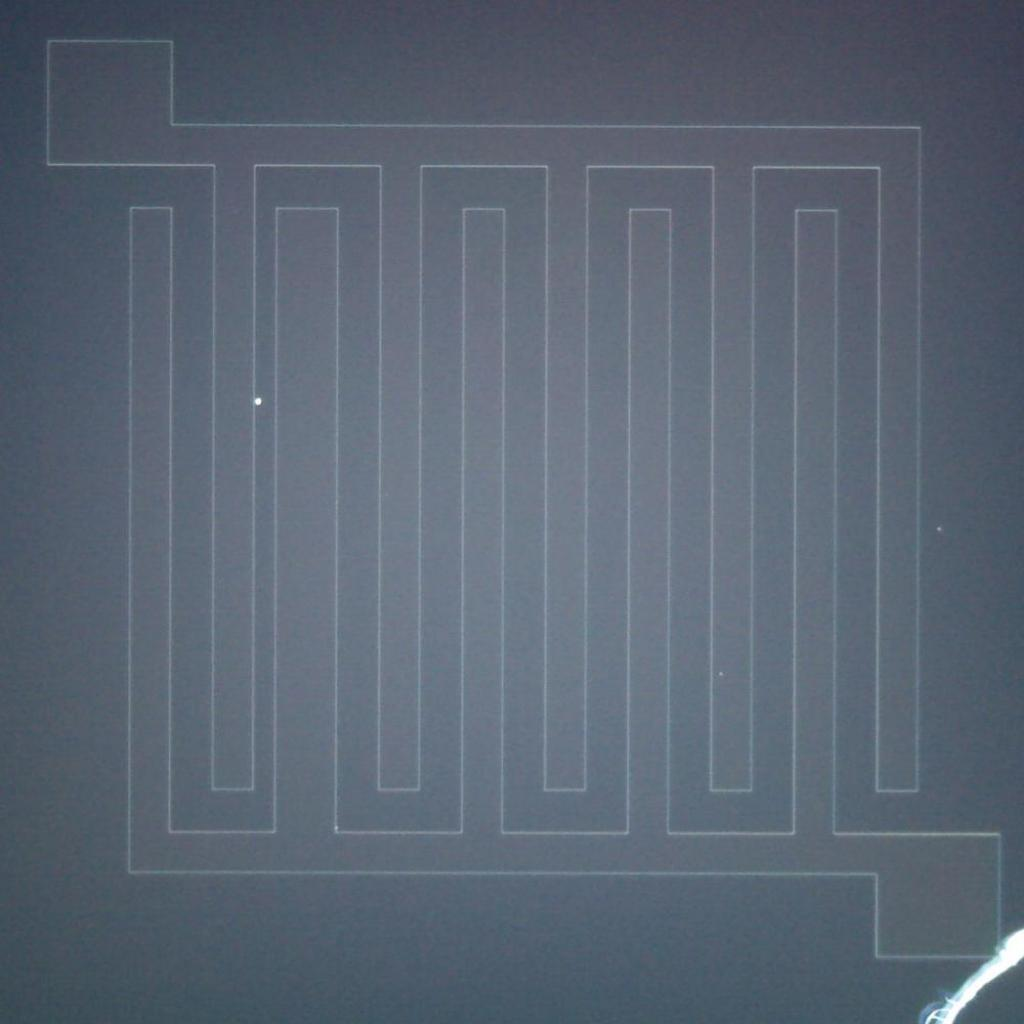curve: (956, 979, 979, 1003), (979, 962, 1002, 985), (1002, 929, 1023, 952), (1002, 952, 1023, 975), (945, 1003, 965, 1023)
dot: (255, 398, 264, 406), (718, 672, 724, 676), (937, 527, 941, 531), (335, 826, 339, 830)
